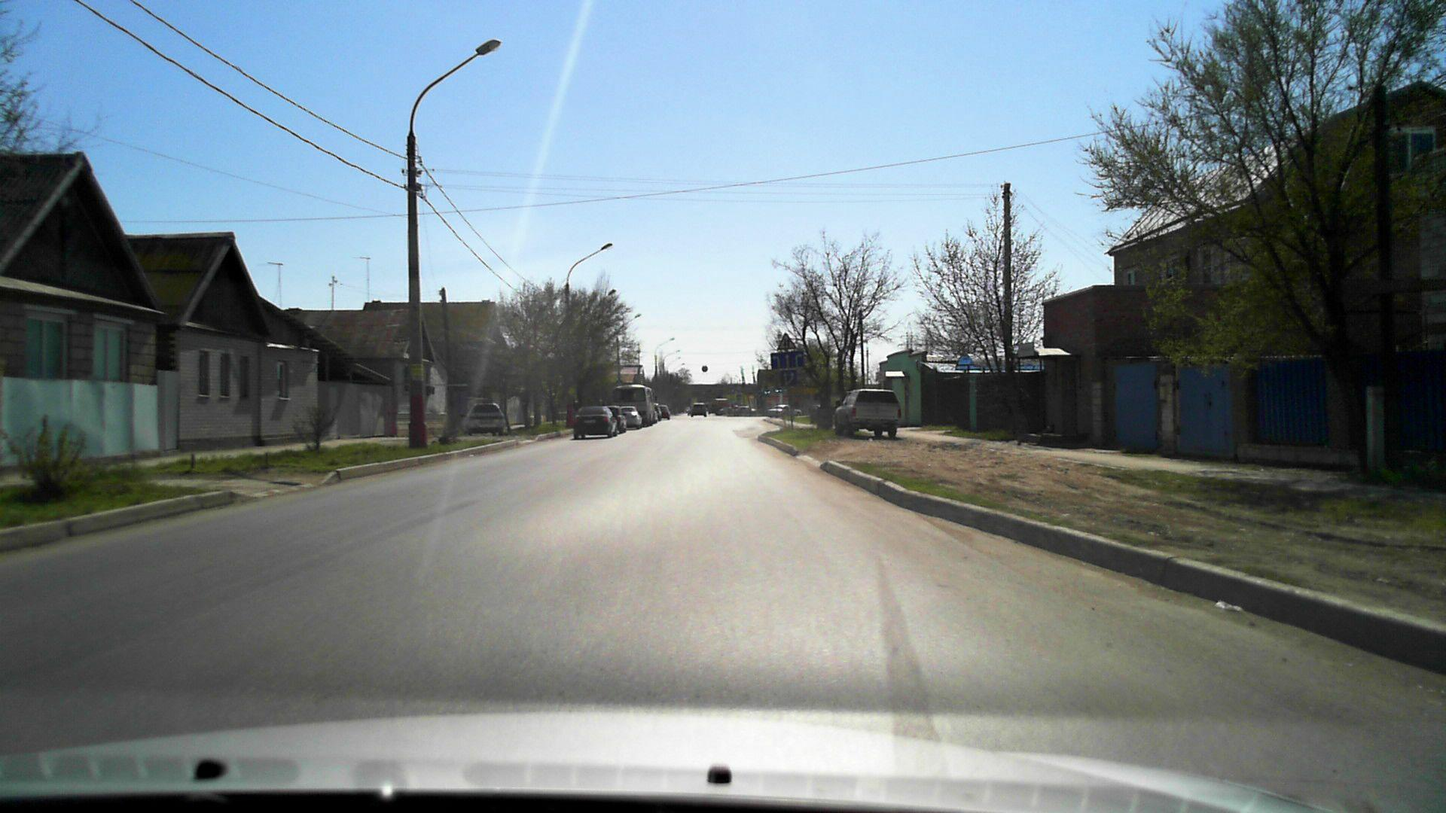road_sign: (770, 350, 806, 370), (775, 332, 799, 350)
